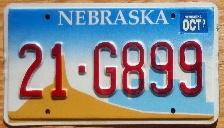1: (50, 40, 69, 100)
2: (16, 38, 48, 101)
8: (121, 38, 146, 98)
9: (177, 38, 205, 99), (148, 39, 176, 96)
G: (91, 39, 119, 99)
